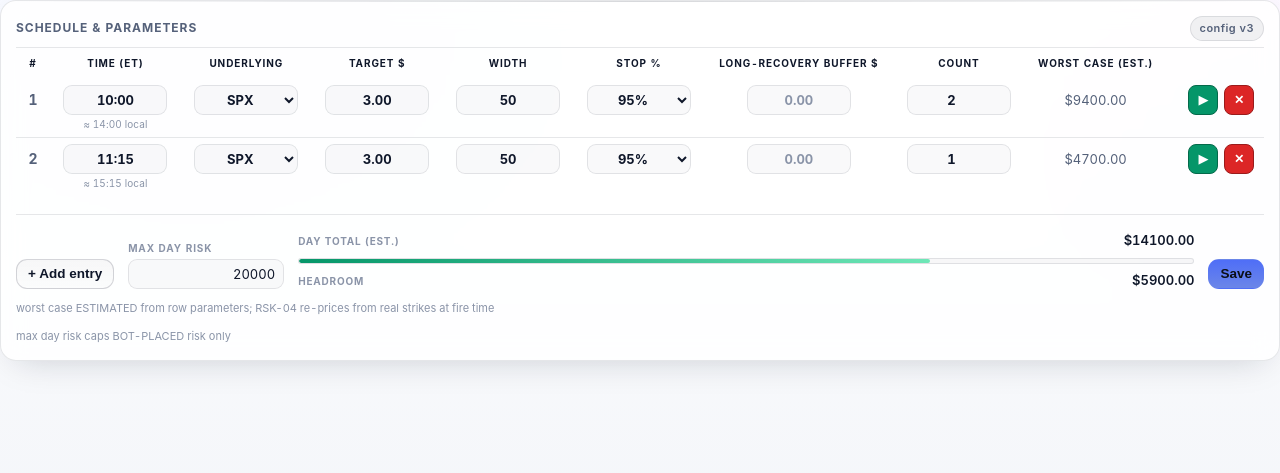
Test: server-side validation (UI-03) › marks every offending cell from one 422, not just the first
The image size is (1280, 473).
Check: the table is shown, box [16,56,1264,196]
Click the button "Save" at {"x": 1236, "y": 274}, box [1208,259,1264,289]
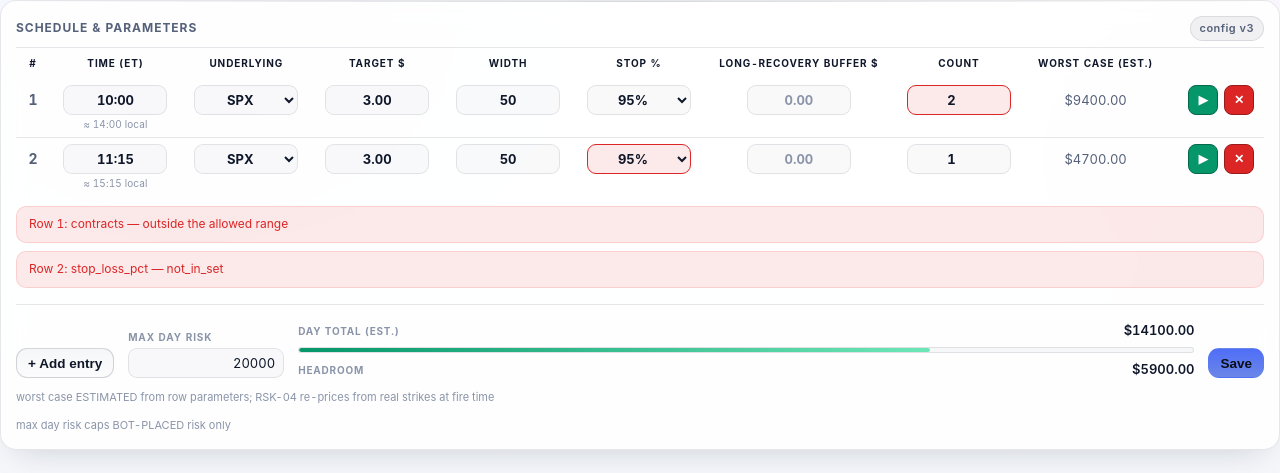
Check: the number of messages is 2, box [16,206,1264,243]; [16,251,1264,288]
Check: the text "Row 1: contracts — outside the allowed range" is shown, box [16,206,1264,243]
